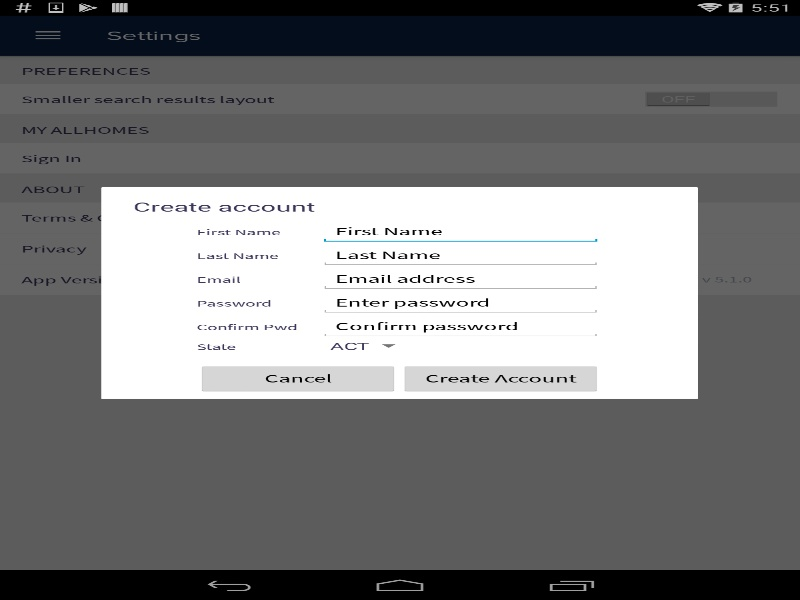Button: (196, 363, 399, 393), (399, 363, 602, 393)
Input: (319, 219, 602, 243), (319, 243, 602, 267), (319, 267, 602, 291), (319, 291, 602, 315), (319, 315, 602, 338)
